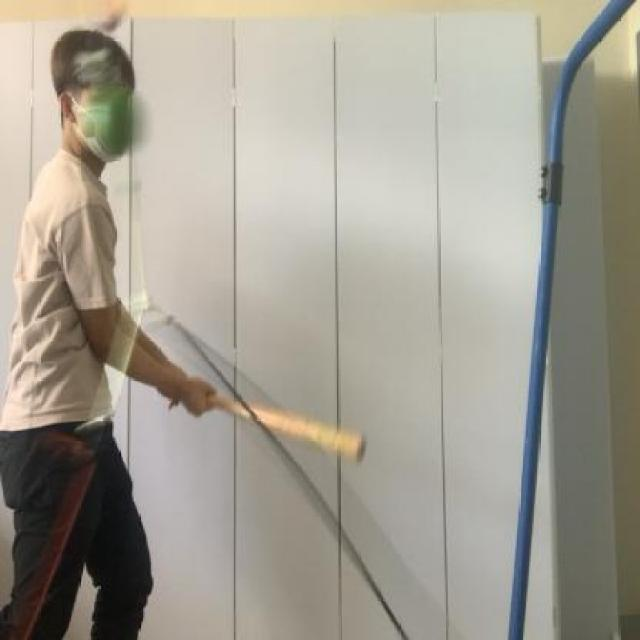baseball: (76, 63, 161, 179)
